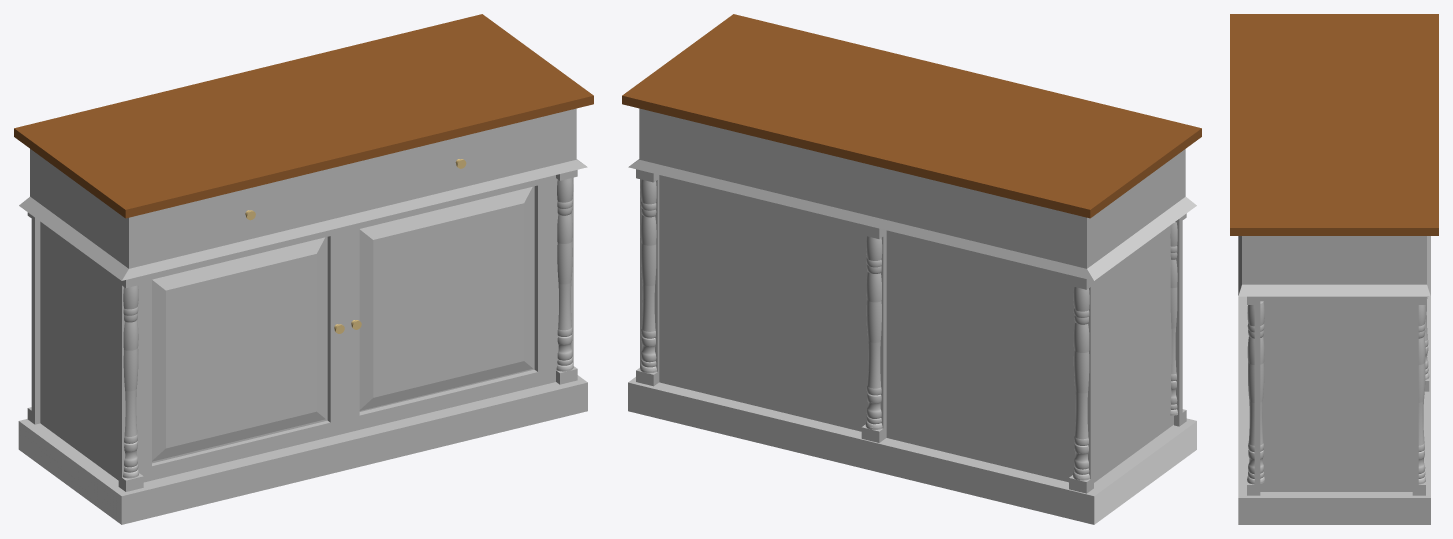
File: Кухонная хрень посреди комнаты (Crosley Oxford Butcher Block Top Kitchen Island in White).obj
3 renders of one model, left to right at view 1: azimuth 30°, elevation 25°; view 2: azimuth 150°, elevation 25°; view 3: azimuth 270°, elevation 25°, orthographic. The views are drawn at different scales.
Visible parts, largest first — view 1: Mesh11 Model, Mesh12 Model, Mesh13 Model, Mesh6 _____4 Model, Mesh2 _____2 Model, Mesh1 _____1 Model; view 2: Mesh11 Model, Mesh14 Model, Mesh16 Model, Mesh7 _____5 Model, Mesh2 _____2 Model, Mesh3 _____3 Model, Mesh6 _____4 Model, Mesh13 Model; view 3: Mesh11 Model, Mesh12 Model, Mesh1 _____1 Model, Mesh3 _____3 Model.
Boxes of the visible parts, left/top/right/bottom form: Mesh11 Model: left=14, top=14, right=593, bottom=524; Mesh12 Model: left=556, top=178, right=573, bottom=371; Mesh13 Model: left=123, top=285, right=138, bottom=478; Mesh6 _____4 Model: left=118, top=275, right=143, bottom=491; Mesh2 _____2 Model: left=27, top=212, right=40, bottom=424; Mesh1 _____1 Model: left=556, top=170, right=577, bottom=384; Mesh11 Model: left=622, top=14, right=1201, bottom=524; Mesh14 Model: left=1073, top=287, right=1089, bottom=480; Mesh16 Model: left=865, top=236, right=882, bottom=429; Mesh7 _____5 Model: left=861, top=224, right=886, bottom=442; Mesh2 _____2 Model: left=1069, top=275, right=1093, bottom=493; Mesh3 _____3 Model: left=636, top=169, right=659, bottom=386; Mesh6 _____4 Model: left=1174, top=213, right=1186, bottom=426; Mesh13 Model: left=1170, top=222, right=1177, bottom=415; Mesh11 Model: left=1230, top=14, right=1438, bottom=524; Mesh12 Model: left=1247, top=301, right=1264, bottom=484; Mesh1 _____1 Model: left=1247, top=296, right=1260, bottom=495; Mesh3 _____3 Model: left=1412, top=296, right=1425, bottom=495.
Size of the model in its own units: 171 by 111 by 70.44.
